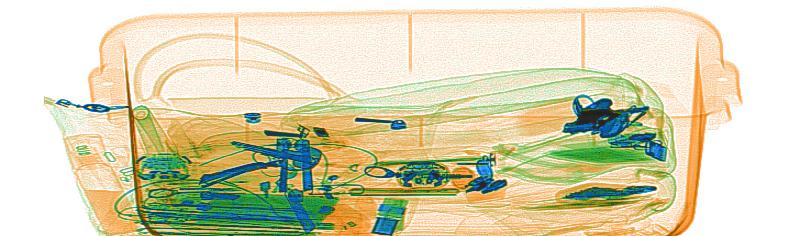plasticBottleWithaNozzle: (61, 131, 139, 232)
